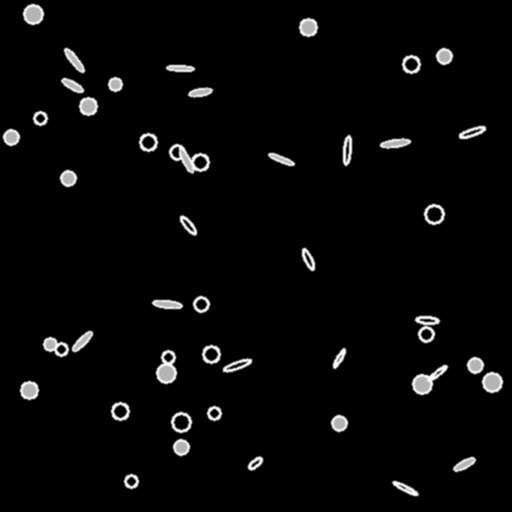pseudomonas: (62, 46, 86, 74), (177, 146, 195, 174), (71, 330, 93, 352), (222, 357, 252, 373), (178, 214, 198, 236), (392, 480, 418, 496), (459, 124, 485, 140), (426, 364, 448, 382), (61, 76, 83, 94), (268, 152, 294, 166), (453, 456, 475, 472), (300, 248, 316, 270), (152, 299, 182, 309), (381, 138, 409, 148), (332, 348, 346, 368), (247, 455, 263, 471), (343, 135, 351, 165), (189, 87, 211, 97), (416, 316, 438, 324), (166, 65, 194, 71)
synechocystis: (425, 205, 443, 223), (413, 375, 431, 393), (483, 373, 501, 391), (24, 5, 42, 23), (172, 413, 190, 431), (157, 364, 175, 382), (403, 56, 419, 72), (300, 19, 316, 35), (140, 134, 156, 150), (203, 346, 219, 362), (192, 154, 208, 170), (80, 98, 96, 114), (21, 382, 37, 398), (112, 403, 128, 419), (332, 416, 346, 430), (170, 145, 184, 159), (468, 358, 482, 372), (4, 130, 18, 144), (194, 297, 208, 311), (437, 49, 451, 63), (419, 327, 433, 341), (174, 440, 188, 454), (61, 171, 75, 185), (125, 475, 137, 487), (162, 351, 174, 363), (208, 407, 220, 419), (55, 343, 67, 355), (109, 78, 121, 90), (44, 338, 56, 350), (34, 112, 46, 124)
